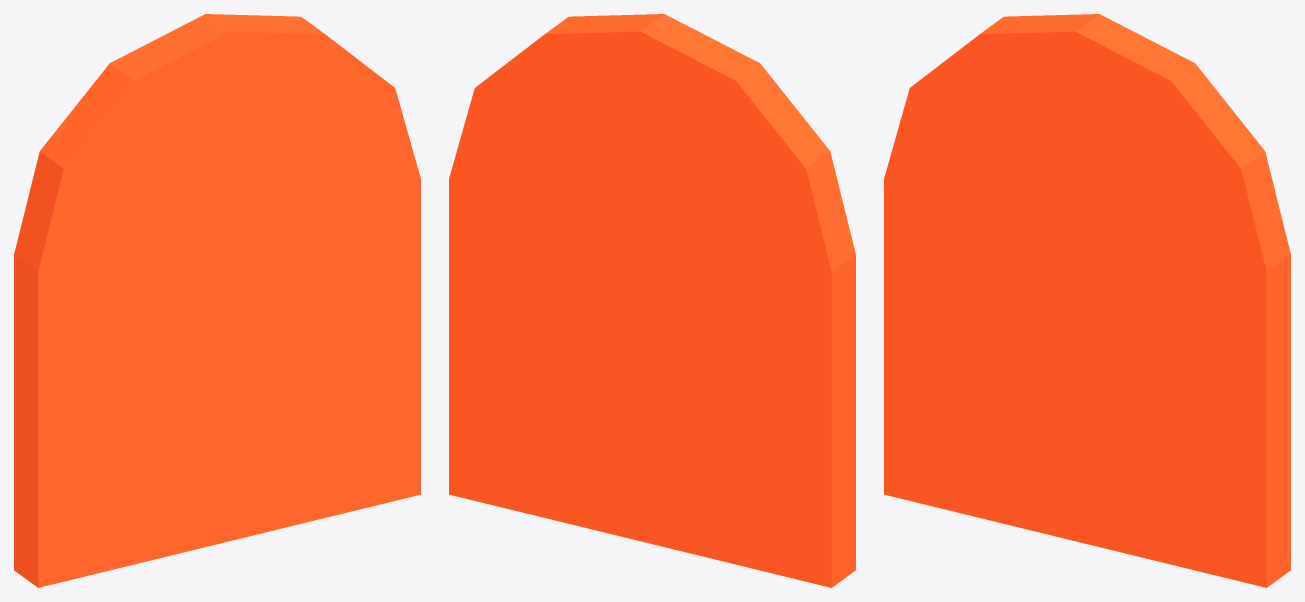
File: oven_mouth.glb
The picture shows the model from 3 angles, left to right: view 1: azimuth 30°, elevation 25°; view 2: azimuth 150°, elevation 25°; view 3: azimuth 330°, elevation 25°; orthographic projection.
Visible parts, largest first — view 1: oven_mouth; view 2: oven_mouth; view 3: oven_mouth.
Boxes of the visible parts, x1,y1,x2,y2 form: oven_mouth: [14, 14, 420, 587]; oven_mouth: [449, 14, 855, 587]; oven_mouth: [884, 14, 1290, 587].
Size of the model in its own units: 0.55 by 0.7 by 0.06.
